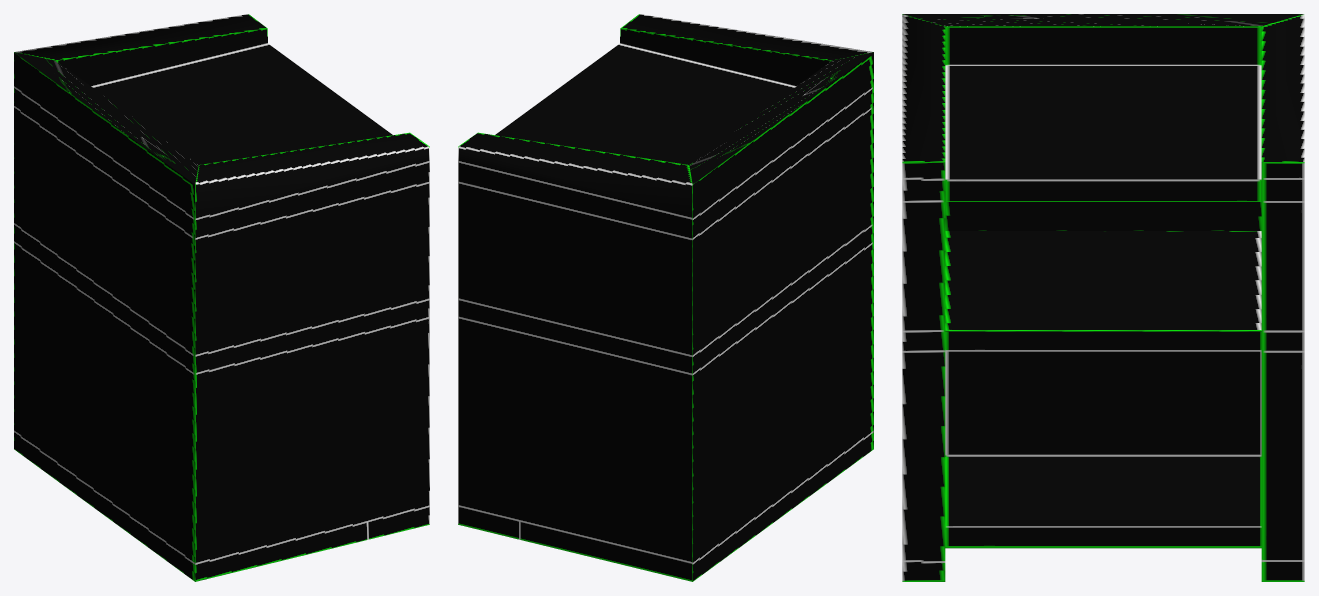
Rendered from ryxkr1.FBX.
3 views of the same model, side by side, from view 1: azimuth 30°, elevation 25°; view 2: azimuth 150°, elevation 25°; view 3: azimuth 270°, elevation 25° (orthographic). The views are drawn at different scales.
Parts seen in each view (by area): view 1: Box727; view 2: Box727; view 3: Box727.
Boxes of the visible parts, x1,y1,x2,y2 form: Box727: [14, 14, 429, 581]; Box727: [458, 14, 873, 581]; Box727: [902, 14, 1304, 581].
Size of the model in its own units: 56.84 by 91.92 by 76.04.
